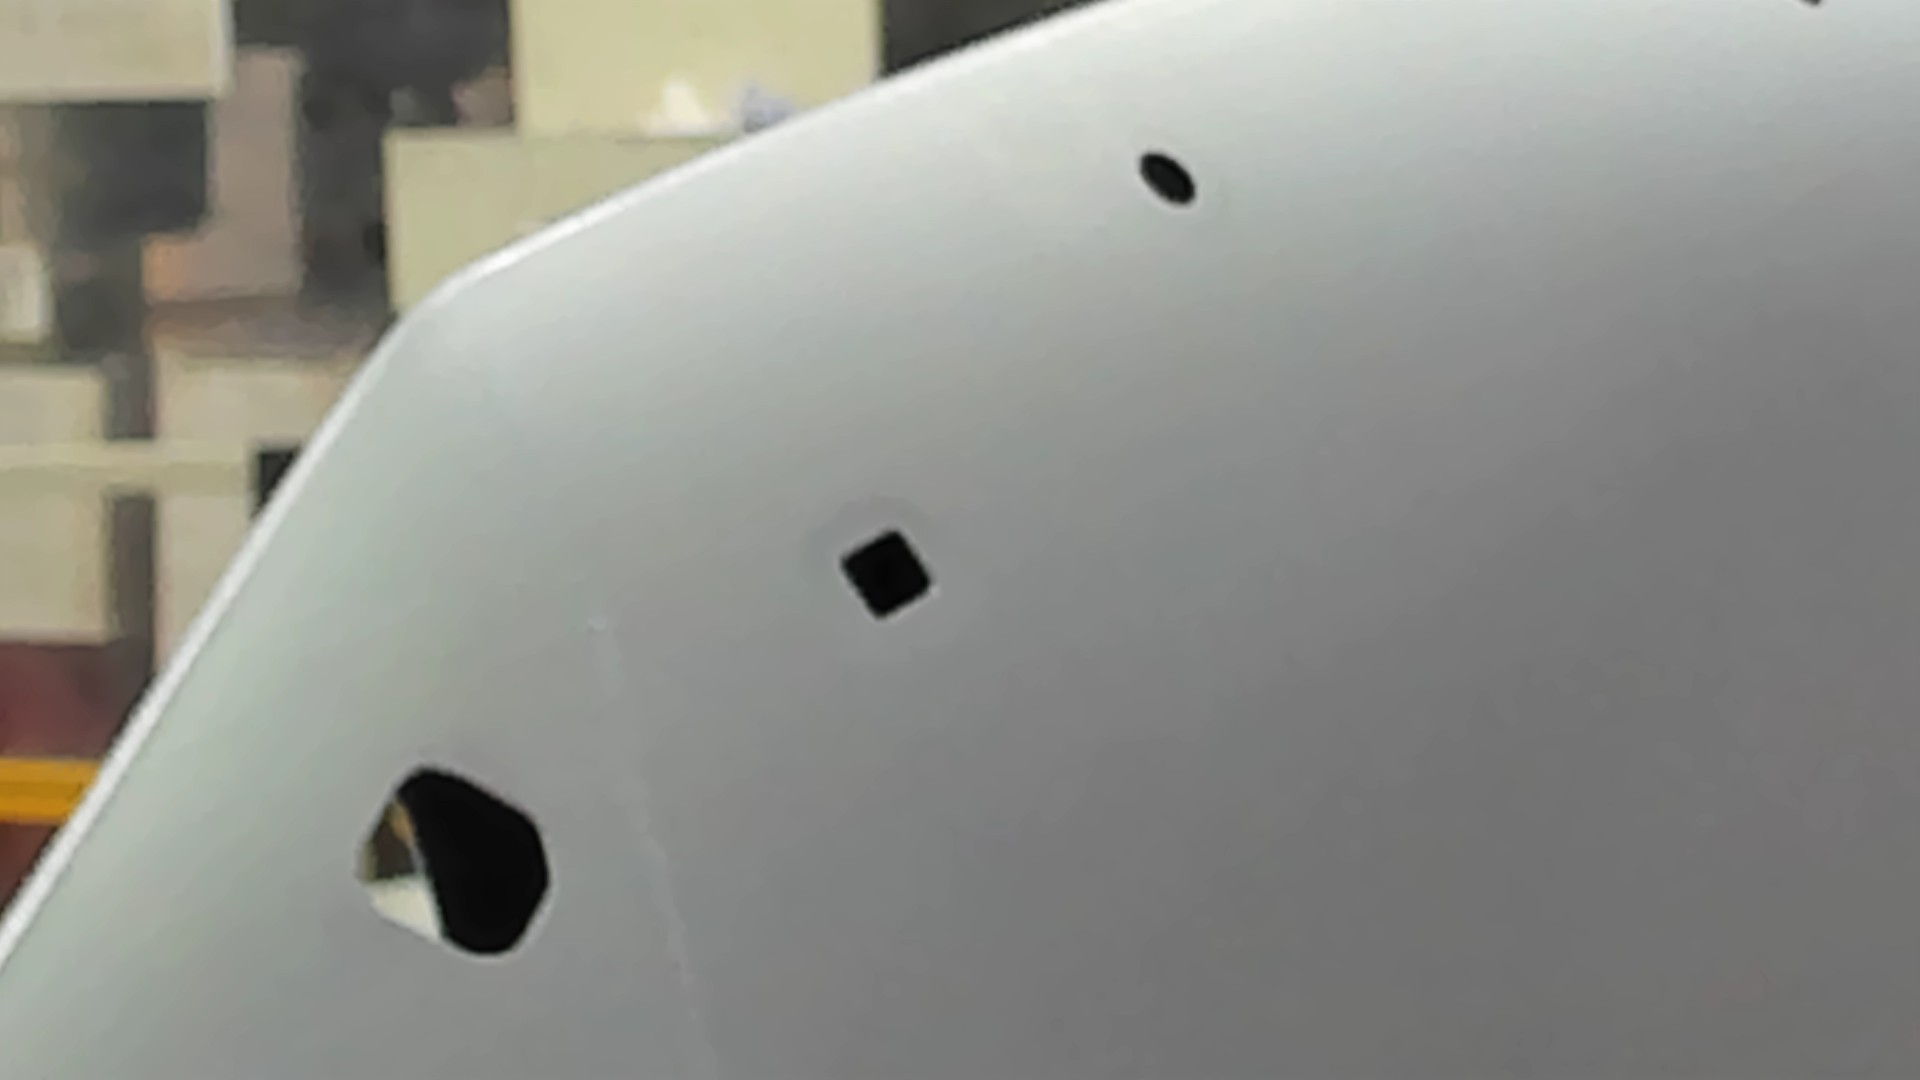chico: (1133, 146, 1200, 214)
grande: (349, 761, 555, 971)
mediano: (837, 527, 938, 626)
